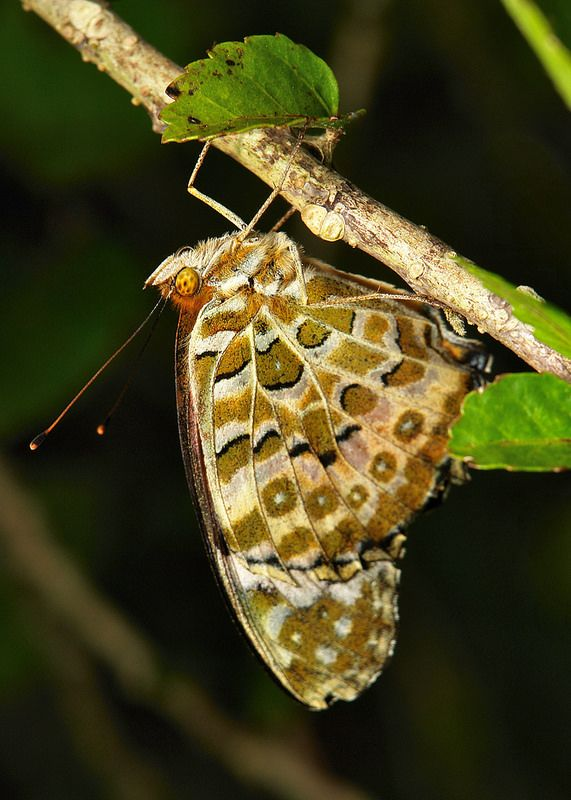Argyreus hyperbius: (15, 102, 494, 719)
butterfly: (17, 104, 496, 721)
